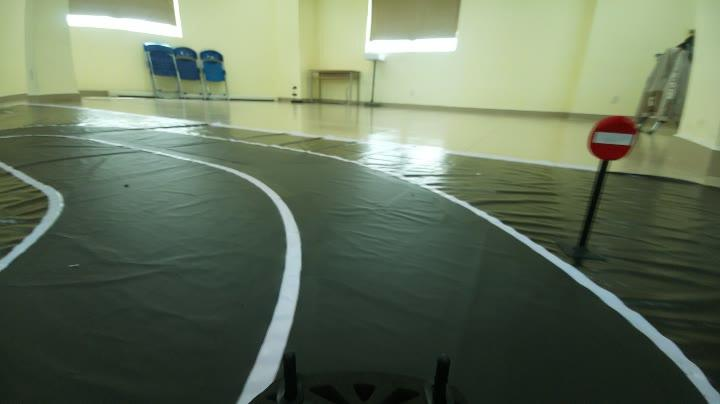no_entry: (588, 113, 642, 166)
